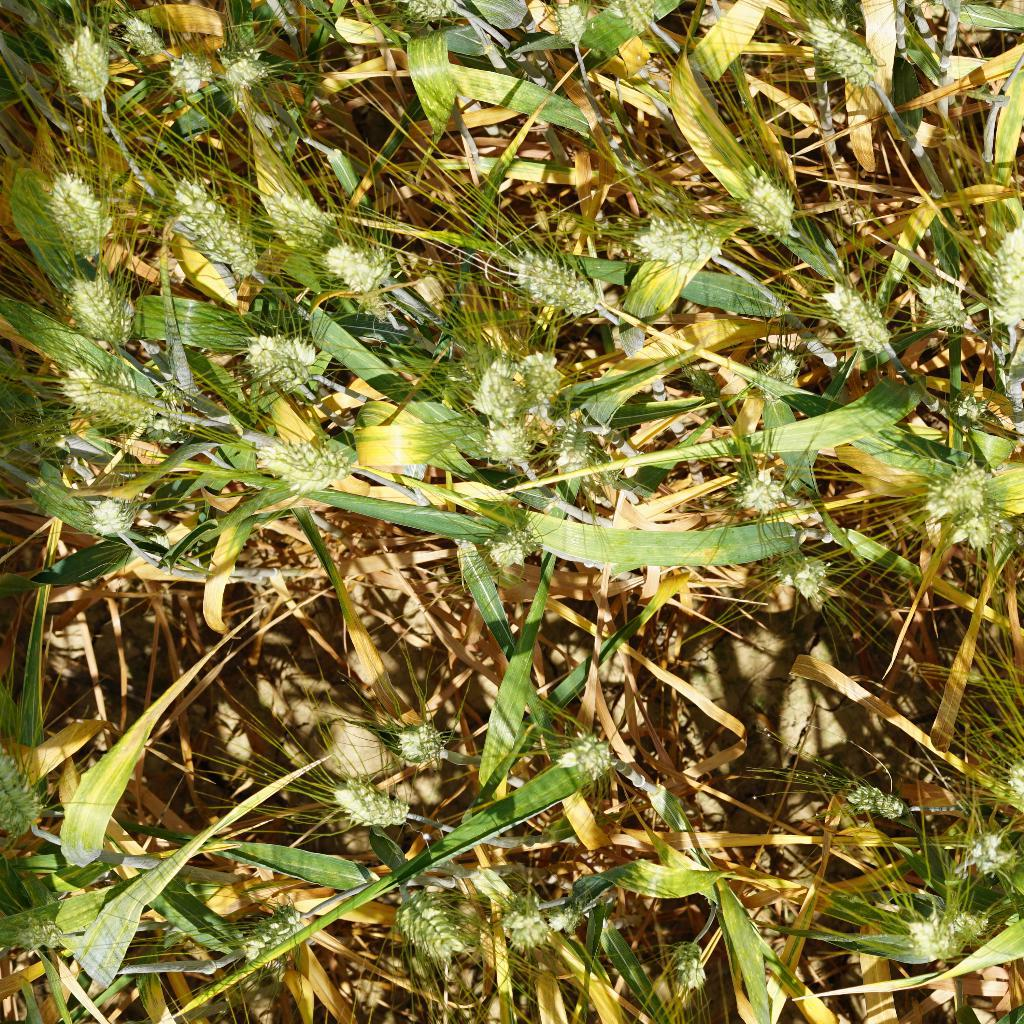0-0: (490, 235, 605, 321), (167, 176, 256, 283), (43, 359, 168, 434), (376, 882, 471, 968), (37, 164, 120, 261), (722, 153, 815, 235), (223, 328, 325, 399), (247, 434, 358, 499), (624, 208, 724, 279), (818, 273, 899, 358), (47, 17, 119, 112), (905, 441, 991, 515), (228, 894, 310, 971), (324, 769, 418, 834), (51, 266, 133, 340), (926, 885, 1002, 963), (0, 751, 55, 854), (468, 508, 556, 572), (366, 703, 453, 766), (813, 18, 884, 94), (462, 352, 529, 432), (727, 335, 811, 397), (834, 770, 918, 830), (724, 453, 795, 523), (765, 548, 849, 605), (979, 223, 1024, 329), (260, 176, 326, 247), (492, 884, 559, 950), (908, 279, 970, 343), (552, 721, 616, 783), (322, 243, 396, 294), (508, 348, 572, 406), (552, 407, 606, 474), (68, 488, 133, 542), (3, 911, 75, 958), (122, 0, 169, 67), (896, 913, 956, 964), (490, 411, 538, 474), (956, 825, 1012, 879), (213, 40, 266, 96), (938, 501, 1005, 545), (585, 0, 664, 37), (943, 383, 996, 436), (658, 934, 707, 991), (253, 0, 315, 45), (135, 408, 197, 453), (544, 0, 593, 56), (107, 522, 173, 563), (670, 356, 724, 406), (163, 38, 210, 90), (544, 893, 594, 934), (1000, 750, 1024, 821), (392, 0, 470, 20)
